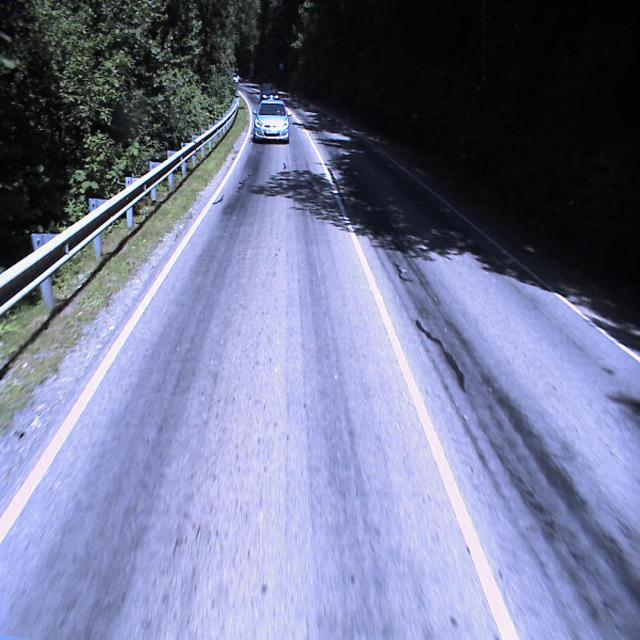road: (0, 83, 640, 639)
